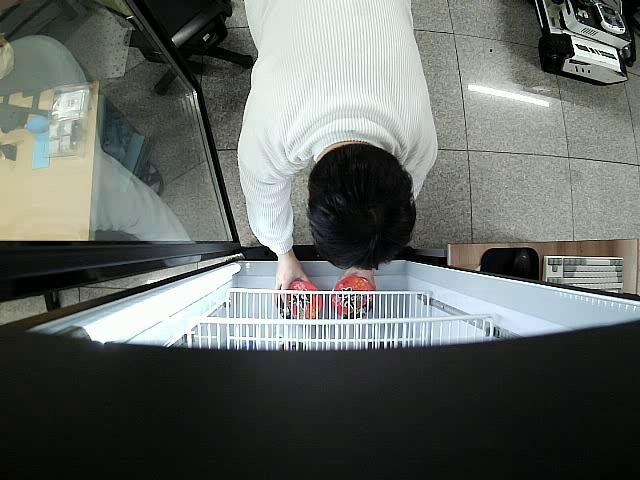00_hand: (274, 260, 309, 301), (344, 267, 375, 291)
01_shinRamen_L: (332, 276, 374, 318), (280, 281, 323, 320)
